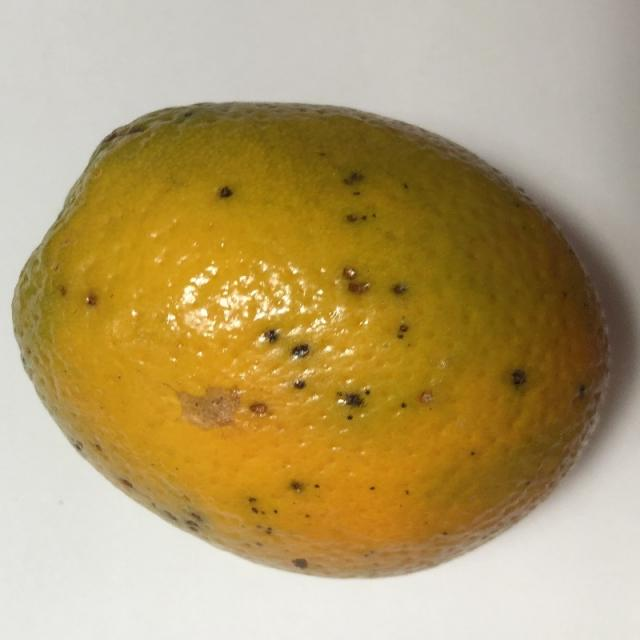blackspot: (12, 66, 616, 596)
